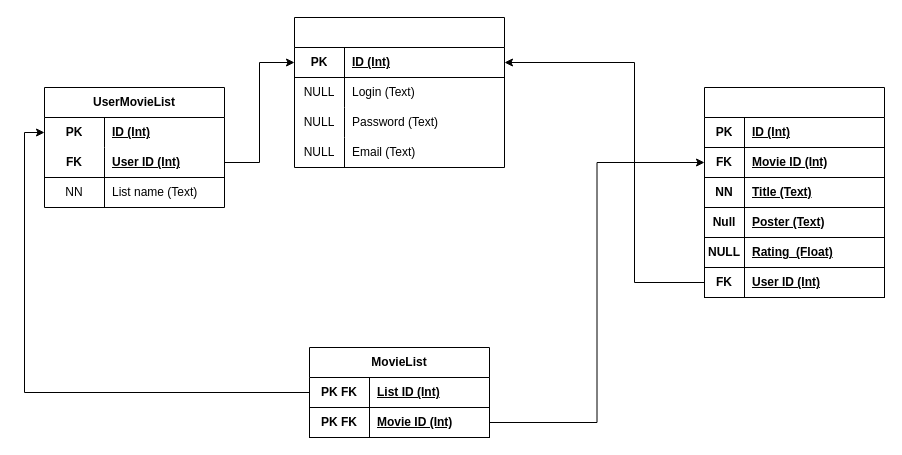
The diagram is 902 pixels wide and 455 high, and some of its shapes have lost their labels. The box of each missing label's shape, as (x1, y1, x2, y2) in pixels:
Movies: (704, 86, 884, 298)
Users: (294, 16, 504, 168)
